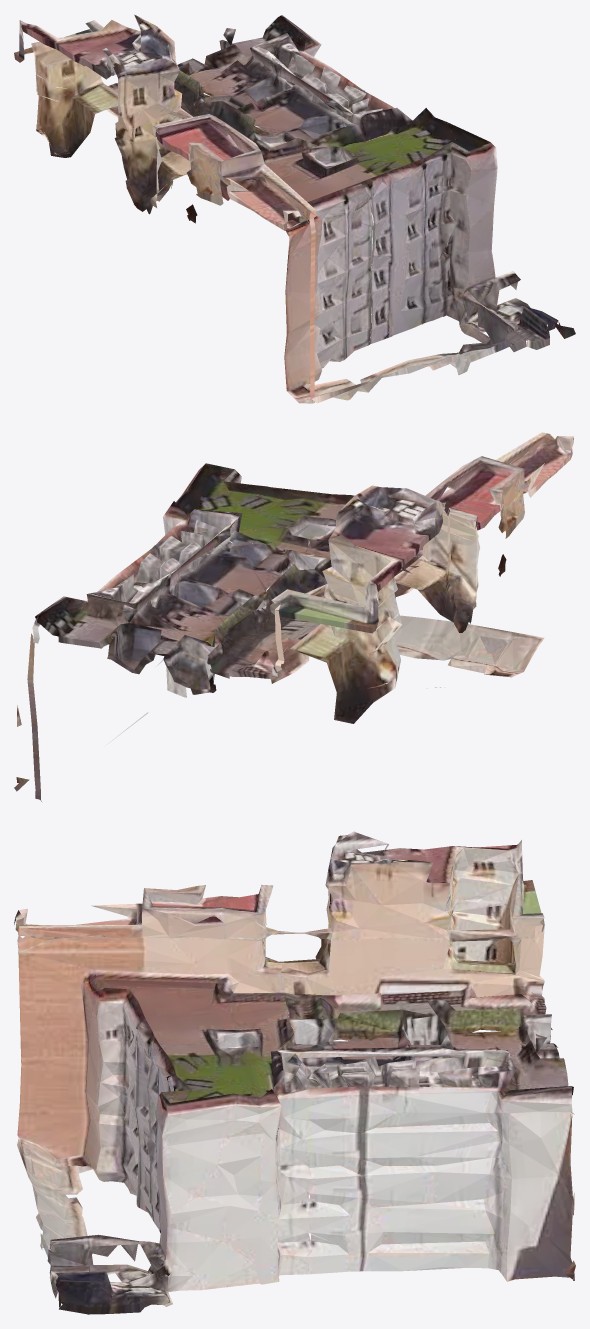
3 renders of one model, top to bottom at view 1: azimuth 30°, elevation 25°; view 2: azimuth 150°, elevation 25°; view 3: azimuth 270°, elevation 25°, orthographic. The views are drawn at different scales.
Parts seen in each view (by area): view 1: Mesh_0; view 2: Mesh_0; view 3: Mesh_0.
Part boxes in pixels (x1=…): Mesh_0: x1=14, y1=14, x2=575, y2=403; Mesh_0: x1=14, y1=432, x2=573, y2=801; Mesh_0: x1=14, y1=831, x2=575, y2=1314.
Size of the model in its own units: 33.49 by 24.83 by 41.4.
2 materials, 2 textured.
